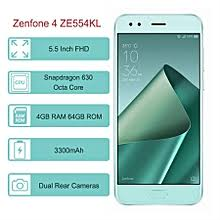asus: (110, 10, 208, 209)
